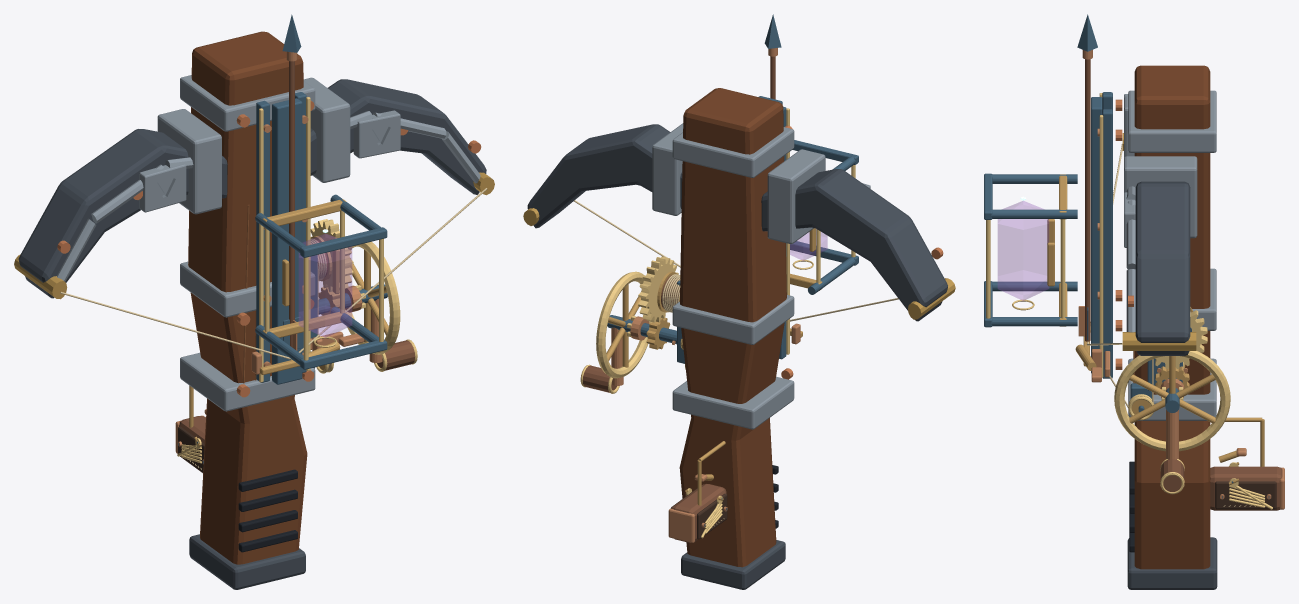
Rendered from siegebird.glb.
3 views of the same model, side by side, from view 1: azimuth 30°, elevation 25°; view 2: azimuth 150°, elevation 25°; view 3: azimuth 270°, elevation 25° (orthographic). The views are drawn at different scales.
Parts seen in each view (by area): view 1: 01 Walnut tiller, 06 Reinforced limbs, 02 Stock fittings, 08 Limb clamps, RailBed, Amethyst, 18 Rune braces, 07 Limb laminations, 03 Grip wraps, Rail, BoltShaft, CrankRim (+12 smaller); view 2: 01 Walnut tiller, 06 Reinforced limbs, 02 Stock fittings, 08 Limb clamps, CrankRim, ReductionTeeth, PalmSwell, GripFinish_Copper fittings, OpticTop, OpticTop.001, Knob, Amethyst (+1 smaller); view 3: 01 Walnut tiller, 06 Reinforced limbs, 02 Stock fittings, Amethyst, 08 Limb clamps, CrankRim, Rail.001, RailBed, BoltShaft, PalmSwell, GripCheek.001, RailTrim.001 (+15 smaller).
Boxes of the visible parts, left/top/right/bottom form: 01 Walnut tiller: left=188, top=31, right=307, bottom=564; 06 Reinforced limbs: left=18, top=79, right=486, bottom=298; 02 Stock fittings: left=180, top=75, right=315, bottom=589; 08 Limb clamps: left=14, top=77, right=494, bottom=299; RailBed: left=272, top=98, right=302, bottom=384; Amethyst: left=299, top=233, right=351, bottom=337; 18 Rune braces: left=139, top=110, right=400, bottom=212; 07 Limb laminations: left=57, top=111, right=480, bottom=281; 03 Grip wraps: left=238, top=469, right=297, bottom=552; Rail: left=256, top=100, right=269, bottom=382; BoltShaft: left=289, top=61, right=294, bottom=347; CrankRim: left=345, top=241, right=400, bottom=354; 01 Walnut tiller: left=679, top=88, right=786, bottom=567; 06 Reinforced limbs: left=527, top=124, right=947, bottom=321; 02 Stock fittings: left=672, top=127, right=794, bottom=589; 08 Limb clamps: left=523, top=123, right=955, bottom=319; CrankRim: left=596, top=271, right=651, bottom=378; ReductionTeeth: left=638, top=256, right=678, bottom=322; PalmSwell: left=672, top=484, right=726, bottom=542; GripFinish_Copper fittings: left=668, top=506, right=727, bottom=542; OpticTop: left=790, top=241, right=858, bottom=265; OpticTop.001: left=792, top=140, right=858, bottom=164; Knob: left=581, top=365, right=616, bottom=392; Amethyst: left=790, top=232, right=827, bottom=260; 01 Walnut tiller: left=1134, top=65, right=1210, bottom=569; 06 Reinforced limbs: left=1135, top=181, right=1190, bottom=355; 02 Stock fittings: left=1127, top=90, right=1217, bottom=589; Amethyst: left=998, top=201, right=1048, bottom=300; 08 Limb clamps: left=1122, top=96, right=1197, bottom=350; CrankRim: left=1114, top=351, right=1230, bottom=451; Rail.001: left=1102, top=109, right=1112, bottom=378; RailBed: left=1091, top=97, right=1102, bottom=373; BoltShaft: left=1085, top=59, right=1090, bottom=341; PalmSwell: left=1210, top=466, right=1282, bottom=510; GripCheek.001: left=1215, top=481, right=1276, bottom=509; RailTrim.001: left=1099, top=115, right=1103, bottom=377.
Bounding box in the file's own units: 1.04 × 1.31 × 0.6355.
